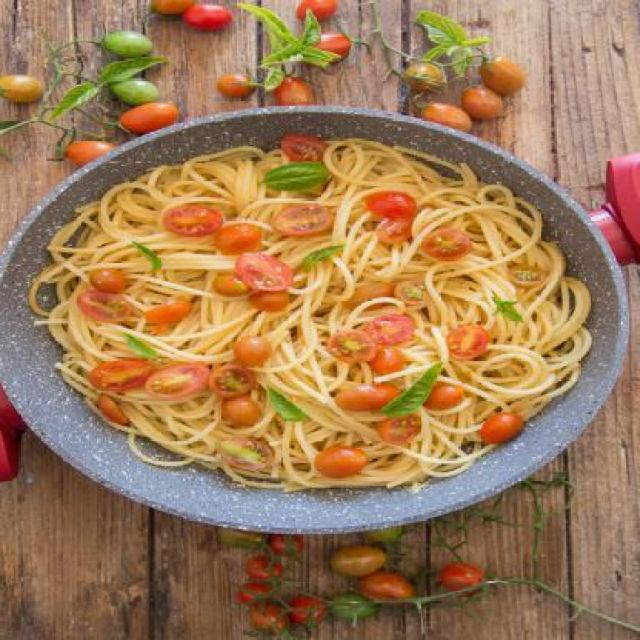Oil pasta: (25, 90, 578, 584)
